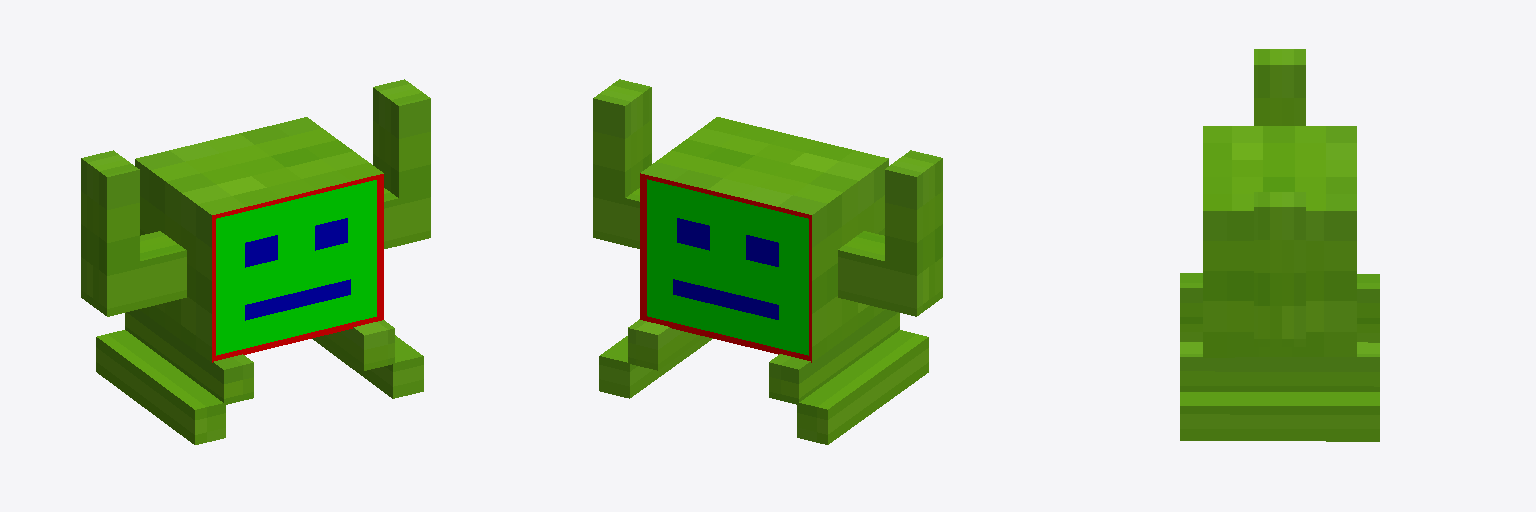
The picture shows the model from 3 angles: view 1: azimuth 30°, elevation 25°; view 2: azimuth 150°, elevation 25°; view 3: azimuth 270°, elevation 25°; orthographic projection.
Visible parts, largest first — view 1: front, arm, legs, top, right; view 2: back, arm, legs, top, right; view 3: legs, left, top, arm.
Part boxes in pixels (x1,y1,x2,y2): front: (212, 174, 383, 362); arm: (81, 79, 430, 316); legs: (96, 309, 423, 444); top: (136, 117, 383, 214); right: (135, 159, 211, 362); back: (640, 173, 811, 362); arm: (593, 79, 942, 316); legs: (599, 309, 928, 444); top: (641, 117, 888, 214); right: (812, 159, 888, 362); legs: (1180, 273, 1379, 441); left: (1203, 211, 1356, 357); top: (1203, 126, 1356, 210); arm: (1254, 49, 1305, 346).
Size of the model in its own units: 19.18 by 14.47 by 10.27.
1 materials, 1 textured.